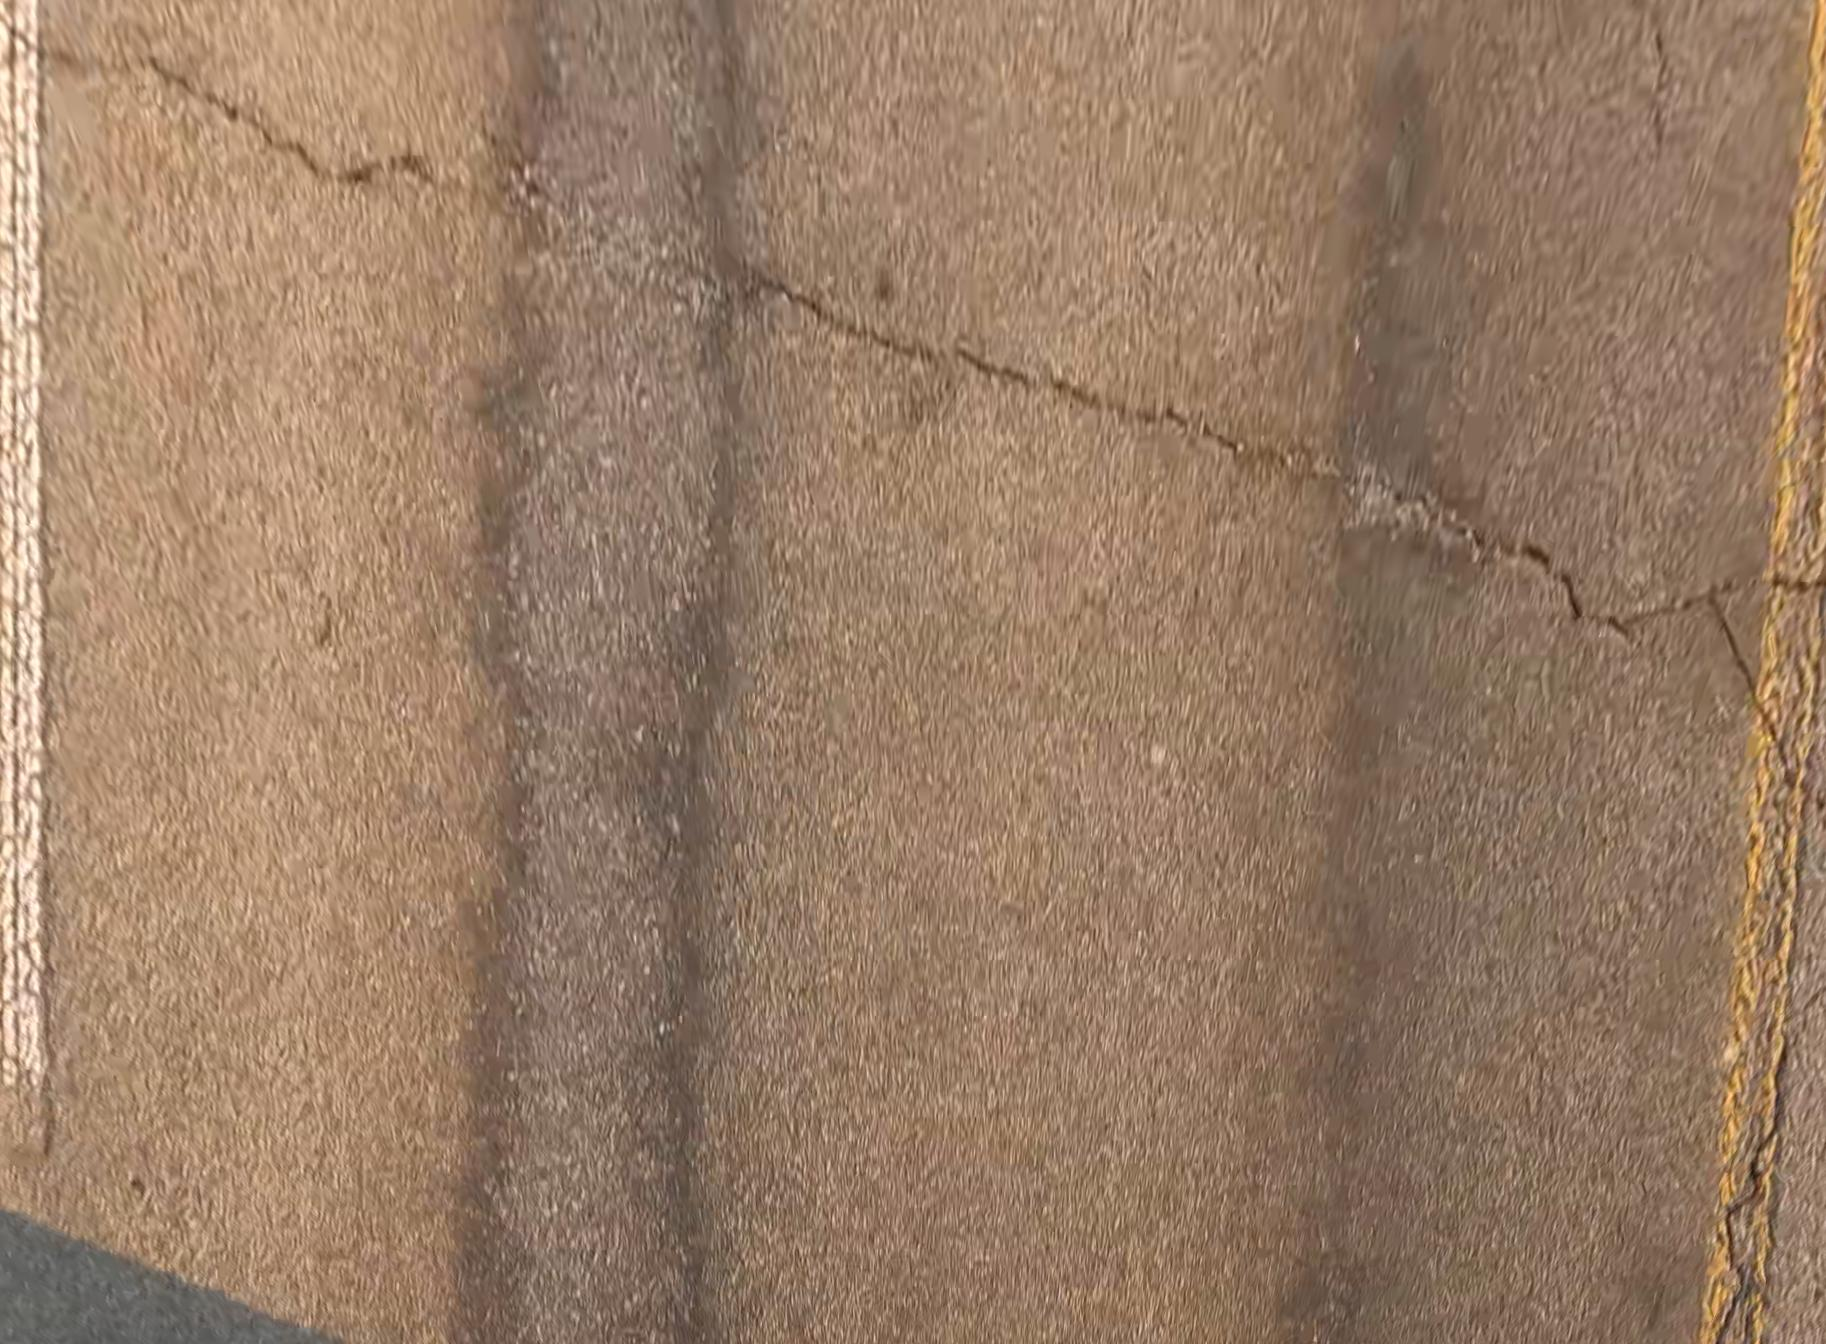pothole_patch_good: (482, 1, 732, 1343)
